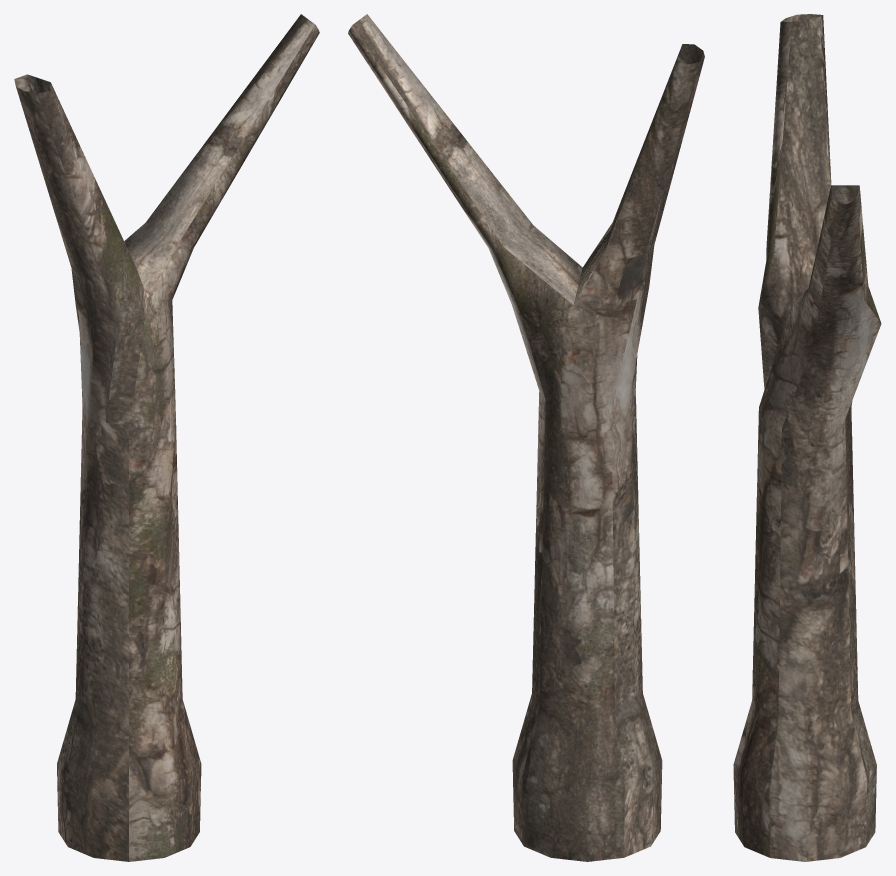
File: DryPlainTree.fbx
The picture shows the model from 3 angles, left to right: view 1: azimuth 30°, elevation 25°; view 2: azimuth 150°, elevation 25°; view 3: azimuth 270°, elevation 25°; orthographic projection. The views are drawn at different scales.
Visible parts, largest first — view 1: DryPlainTree; view 2: DryPlainTree; view 3: DryPlainTree.
Boxes of the visible parts, x1,y1,x2,y2 form: DryPlainTree: (14,14,319,861); DryPlainTree: (348,14,704,861); DryPlainTree: (733,14,881,861).
Size of the model in its own units: 2.47 by 5.74 by 1.
